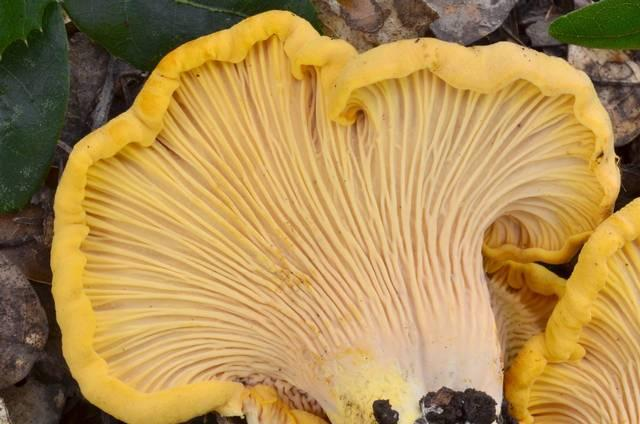Edible Mushroom: (48, 8, 639, 423)
